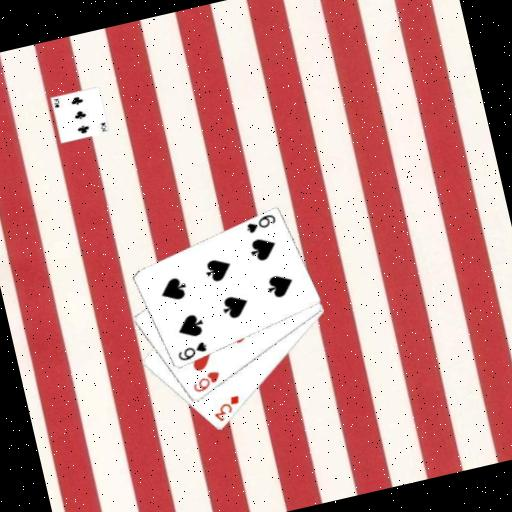3D: (207, 392, 245, 425)
6H: (187, 367, 224, 396)
6S: (241, 211, 279, 237), (173, 338, 210, 364)
